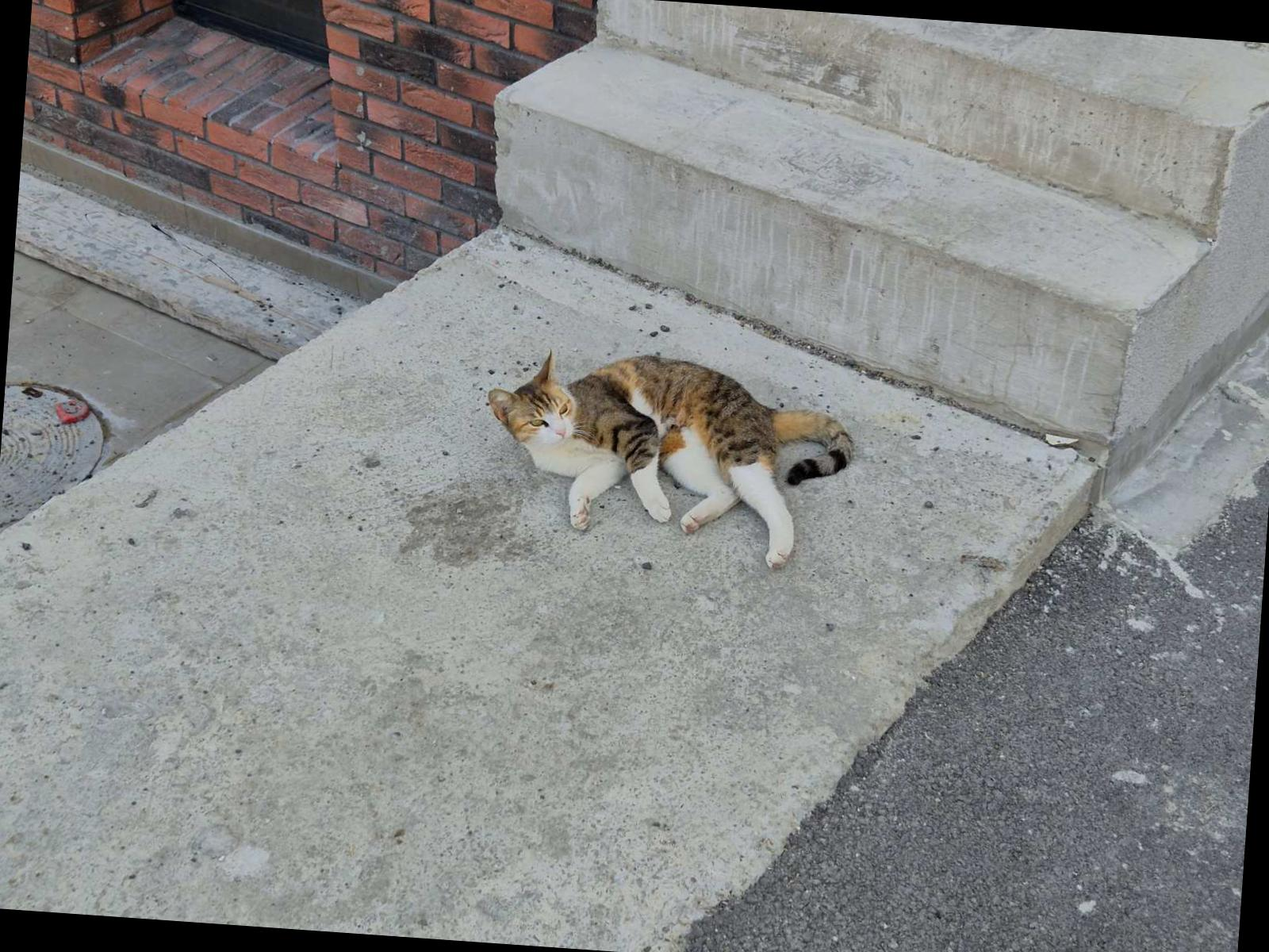macka: (477, 343, 857, 575)
